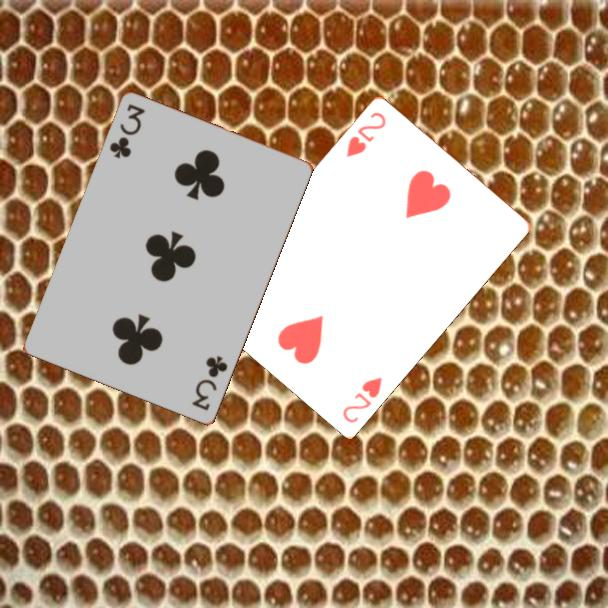c03: (188, 352, 231, 414), (106, 101, 148, 162)
h02: (342, 108, 389, 160), (339, 373, 385, 426)
